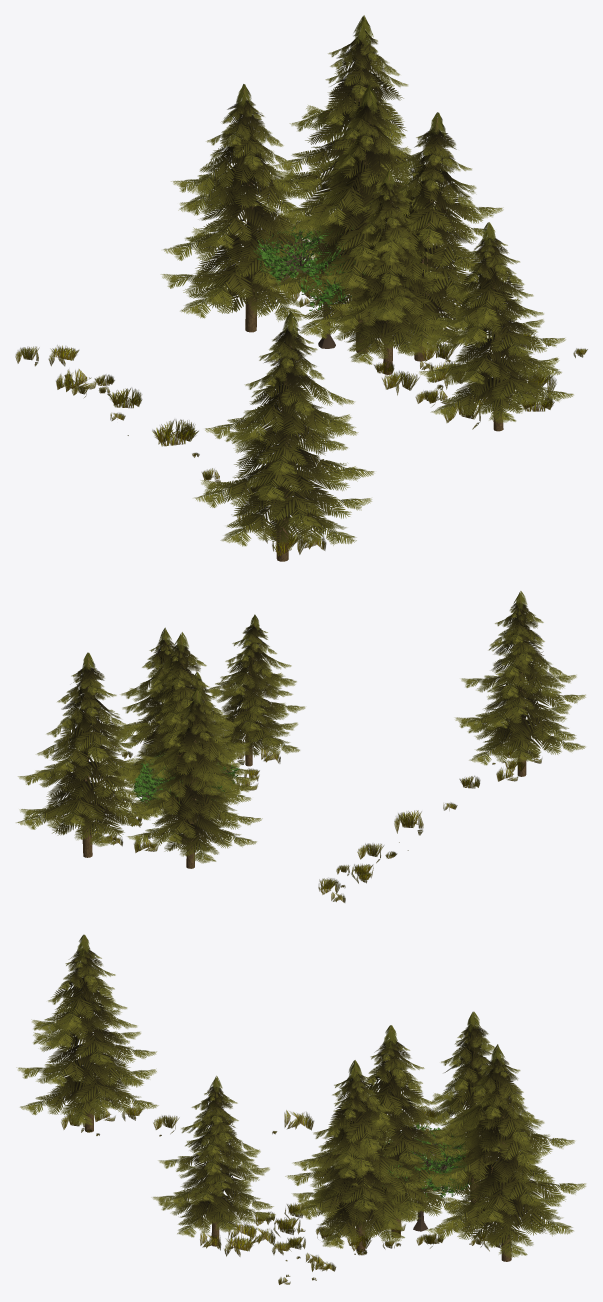
3 views of the same model, one above another, from view 1: azimuth 30°, elevation 25°; view 2: azimuth 150°, elevation 25°; view 3: azimuth 270°, elevation 25° (orthographic). The views are drawn at different scales.
Visible parts, largest first — view 1: Low Poly Stylized 2D Grass.1527; view 2: Low Poly Stylized 2D Grass.1527; view 3: Low Poly Stylized 2D Grass.1527.
Boxes of the visible parts, x1,y1,x2,y2 form: Low Poly Stylized 2D Grass.1527: (15, 15, 587, 561); Low Poly Stylized 2D Grass.1527: (16, 591, 585, 902); Low Poly Stylized 2D Grass.1527: (16, 934, 585, 1284).
Bounding box in the file's own units: 25.45 × 13 × 31.06.
5 materials, 4 textured.
